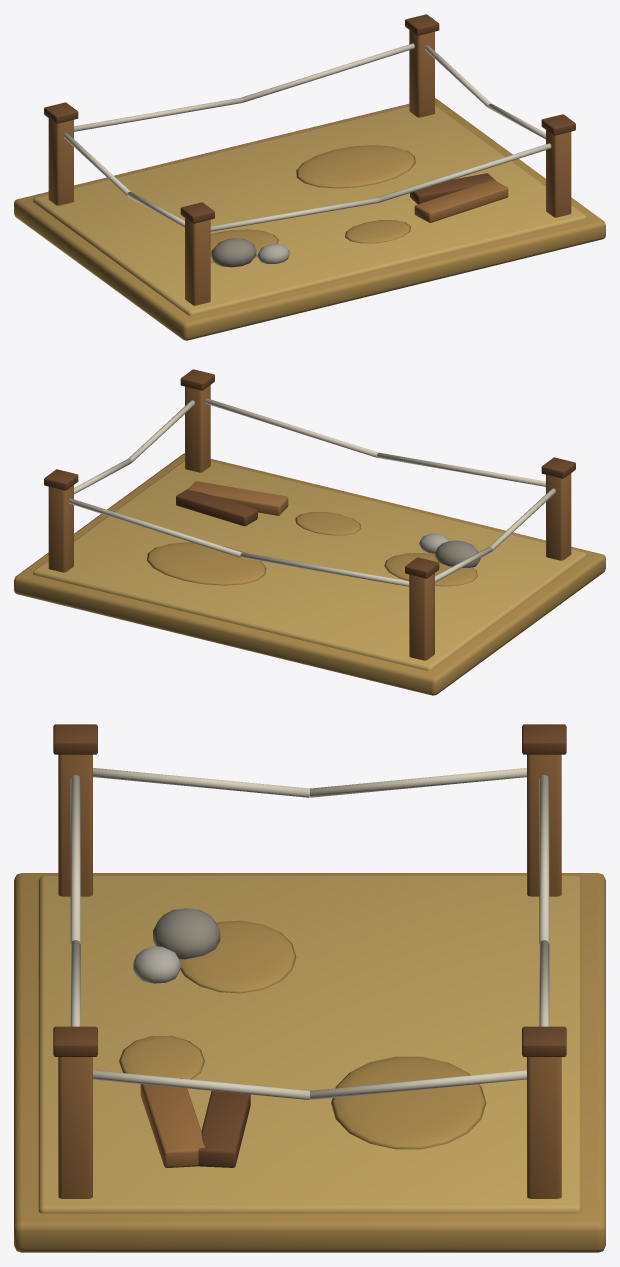
File: k_plot.glb
3 renders of one model, top to bottom at view 1: azimuth 30°, elevation 25°; view 2: azimuth 150°, elevation 25°; view 3: azimuth 270°, elevation 25°, orthographic. The views are drawn at different scales.
Parts seen in each view (by area): view 1: SK_k_plot; view 2: SK_k_plot; view 3: SK_k_plot.
Part boxes in pixels (x1,y1,x2,y2): SK_k_plot: [14, 14, 605, 340]; SK_k_plot: [14, 369, 605, 695]; SK_k_plot: [14, 724, 605, 1252].
Bounding box in the file's own units: 3.4 × 0.87 × 2.4.
